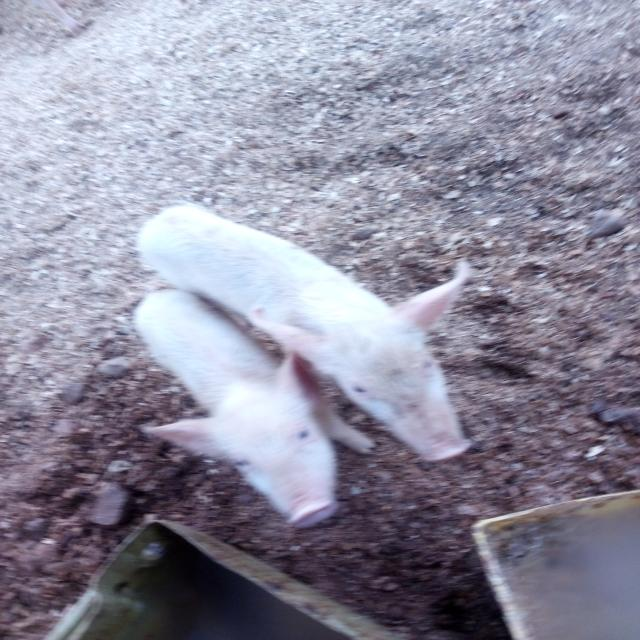pig: (48, 265, 398, 550)
